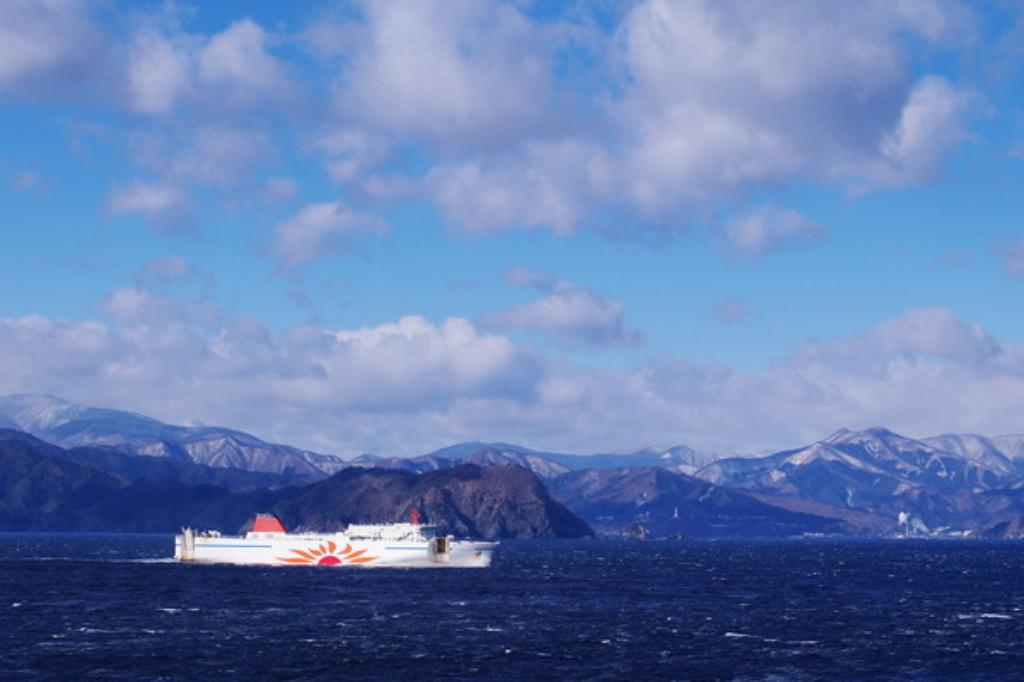PassengerShip: (159, 498, 503, 572)
